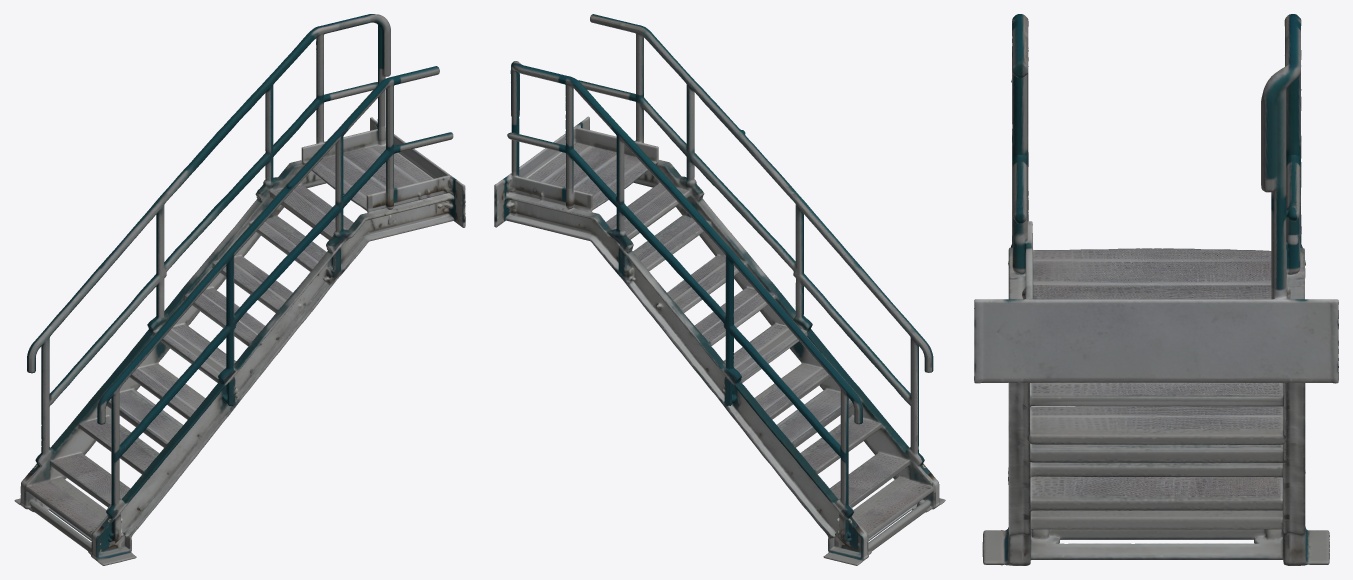
Rendered from industrial metal staircase 3d model.glb.
3 views of the same model, side by side, from view 1: azimuth 30°, elevation 25°; view 2: azimuth 150°, elevation 25°; view 3: azimuth 270°, elevation 25° (orthographic). The views are drawn at different scales.
Parts seen in each view (by area): view 1: tripo_node_04c42852-b13e-4ac9-a321-e93bbb7a05ba; view 2: tripo_node_04c42852-b13e-4ac9-a321-e93bbb7a05ba; view 3: tripo_node_04c42852-b13e-4ac9-a321-e93bbb7a05ba.
Boxes of the visible parts, left/top/right/bottom form: tripo_node_04c42852-b13e-4ac9-a321-e93bbb7a05ba: left=14, top=14, right=465, bottom=565; tripo_node_04c42852-b13e-4ac9-a321-e93bbb7a05ba: left=494, top=14, right=945, bottom=565; tripo_node_04c42852-b13e-4ac9-a321-e93bbb7a05ba: left=974, top=14, right=1338, bottom=565.
Bounding box in the file's own units: 0.9169 × 1 × 0.4112.
1 material, 1 textured.
